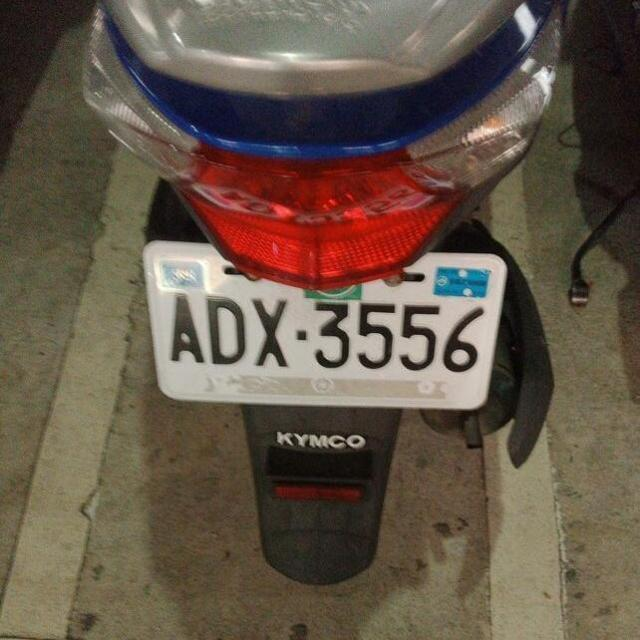W: (132, 228, 512, 422)
